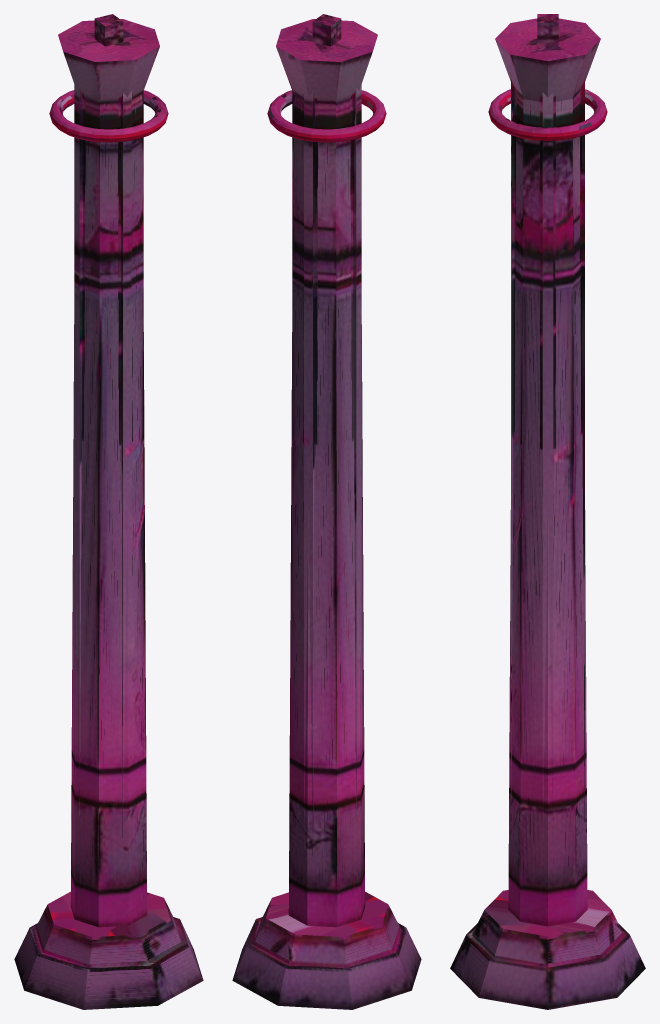
The model's file is support-column-texture-wrap-2026-05-15T00-37-12-948Z.glb.
The picture shows the model from 3 angles, left to right: view 1: azimuth 30°, elevation 25°; view 2: azimuth 150°, elevation 25°; view 3: azimuth 270°, elevation 25°; orthographic projection.
Parts seen in each view (by area): view 1: world; view 2: world; view 3: world.
Boxes of the visible parts, x1=… form: world: x1=14, y1=14, x2=203, y2=1009; world: x1=232, y1=14, x2=421, y2=1009; world: x1=450, y1=14, x2=645, y2=1009.
Size of the model in its own units: 1.48 by 7.92 by 1.48.
Materials: 1 (1 with a texture image).
